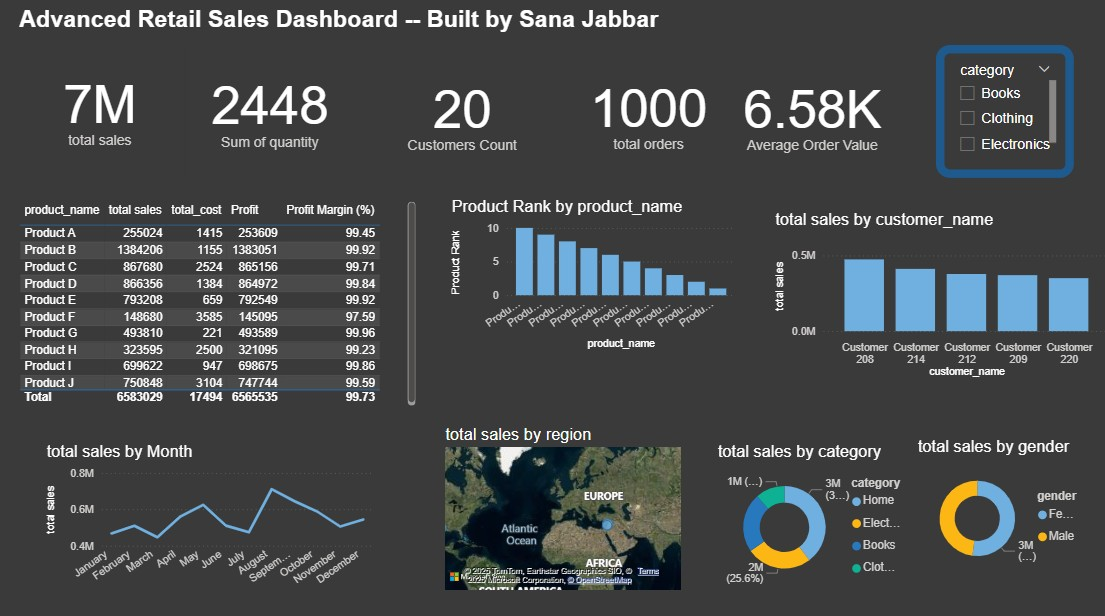

What the dashboard file says about the page in this screenshot:
{"tool":"powerbi","page":{"name":"Page 1","canvas":[1280,720],"ordinal":0},"visuals":[{"type":"card","fields":{"Values":["Sales.total sales"]},"box":[26.7,64.1,194,140.6],"z":0},{"type":"card","title":"total quantity sold","fields":{"Values":["Sum(Sales.quantity)"]},"box":[220.7,60.5,194,149.5],"z":1000},{"type":"card","fields":{"Values":["Sales.Customers Count"]},"box":[439.6,64.1,194,151.3],"z":2000},{"type":"card","fields":{"Values":["Sales.total orders"]},"box":[651.4,64.1,194,149.5],"z":3000},{"type":"card","fields":{"Values":["Sales.Average Order Value"]},"box":[838.3,64.1,194,151.3],"z":4000},{"type":"clusteredColumnChart","fields":{"Category":["Products.product_name"],"Y":["Sales.Product Rank"]},"box":[519.7,236.7,332.8,178],"z":5000},{"type":"donutChart","fields":{"Y":["Sales.total sales"],"Category":["Products.category"]},"box":[822.3,514.4,227.8,172.6],"z":6000},{"type":"lineChart","fields":{"Y":["Sales.total sales"],"Category":["Sales.date.Variation.Date Hierarchy.Month"]},"box":[58.7,514.4,380.9,172.6],"z":7000},{"type":"donutChart","fields":{"Category":["Customers.gender"],"Y":["Sales.total sales"]},"box":[1050.1,509,204.7,163.7],"z":8000},{"type":"clusteredColumnChart","fields":{"Category":["Customers.customer_name"],"Y":["Sales.total sales"]},"box":[888.1,250.9,391.6,195.8],"z":9000},{"type":"map","fields":{"Category":["Sales.region"],"Size":["Sales.total sales"]},"box":[512.6,494.8,277.6,192.2],"z":10000},{"type":"tableEx","fields":{"Values":["Products.product_name","Sales.total sales","Sales.total_cost","Sales.Profit","Sales.Profit Margin (%)"]},"box":[26.7,236.7,461,242.1],"z":11000},{"type":"textbox","box":[26.7,12.5,774.2,51.6],"z":12000},{"type":"slicer","fields":{"Values":["Products.category"]},"box":[1075,62.3,156.6,151.3],"z":13000}]}

Visuals, with their boxes in screenshot pixels (x1, y1, x2, y2), scaled from the page's 1280x720 canvas onto the 1105x616 screenshot:
card - Sales.total sales: x1=23 y1=55 x2=191 y2=175
"total quantity sold" card: x1=191 y1=52 x2=358 y2=180
card - Sales.Customers Count: x1=379 y1=55 x2=547 y2=184
card - Sales.total orders: x1=562 y1=55 x2=730 y2=183
card - Sales.Average Order Value: x1=724 y1=55 x2=891 y2=184
clusteredColumnChart - Products.product_name x Sales.Product Rank: x1=449 y1=203 x2=736 y2=355
donutChart - Sales.total sales x Products.category: x1=710 y1=440 x2=907 y2=588
lineChart - Sales.total sales x Sales.date.Variation.Date Hierarchy.Month: x1=51 y1=440 x2=379 y2=588
donutChart - Customers.gender x Sales.total sales: x1=907 y1=435 x2=1083 y2=576
clusteredColumnChart - Customers.customer_name x Sales.total sales: x1=767 y1=215 x2=1104 y2=382
map - Sales.region x Sales.total sales: x1=443 y1=423 x2=682 y2=588
tableEx - Products.product_name x Sales.total sales: x1=23 y1=203 x2=421 y2=410
textbox: x1=23 y1=11 x2=691 y2=55
slicer - Products.category: x1=928 y1=53 x2=1063 y2=183
